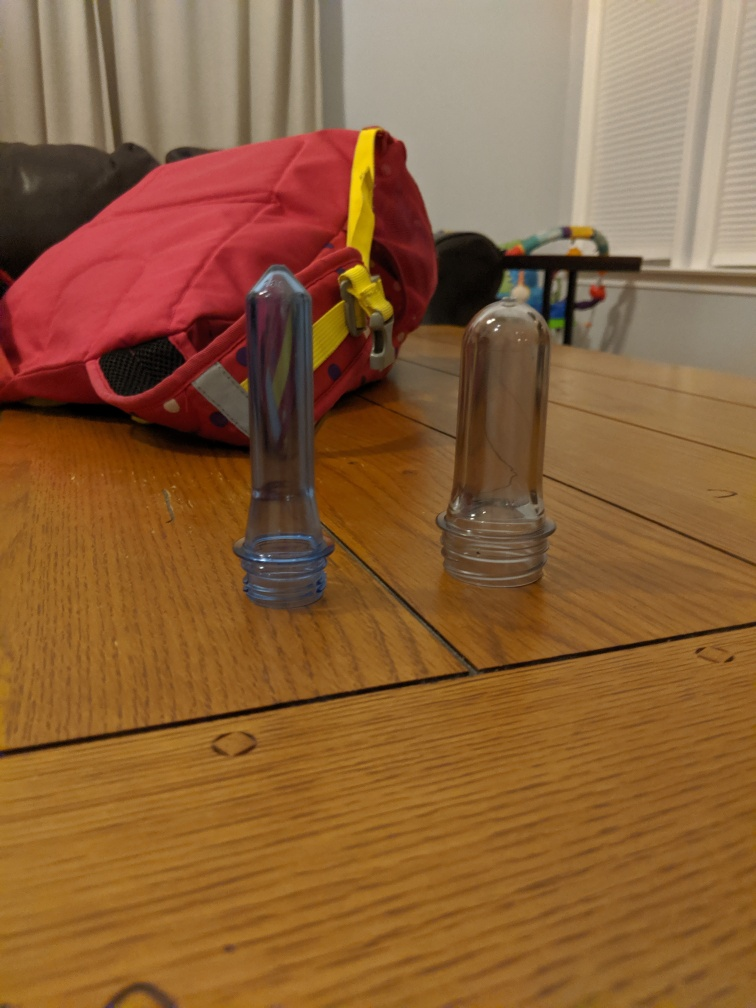preform: (225, 263, 342, 617), (428, 292, 562, 596)
